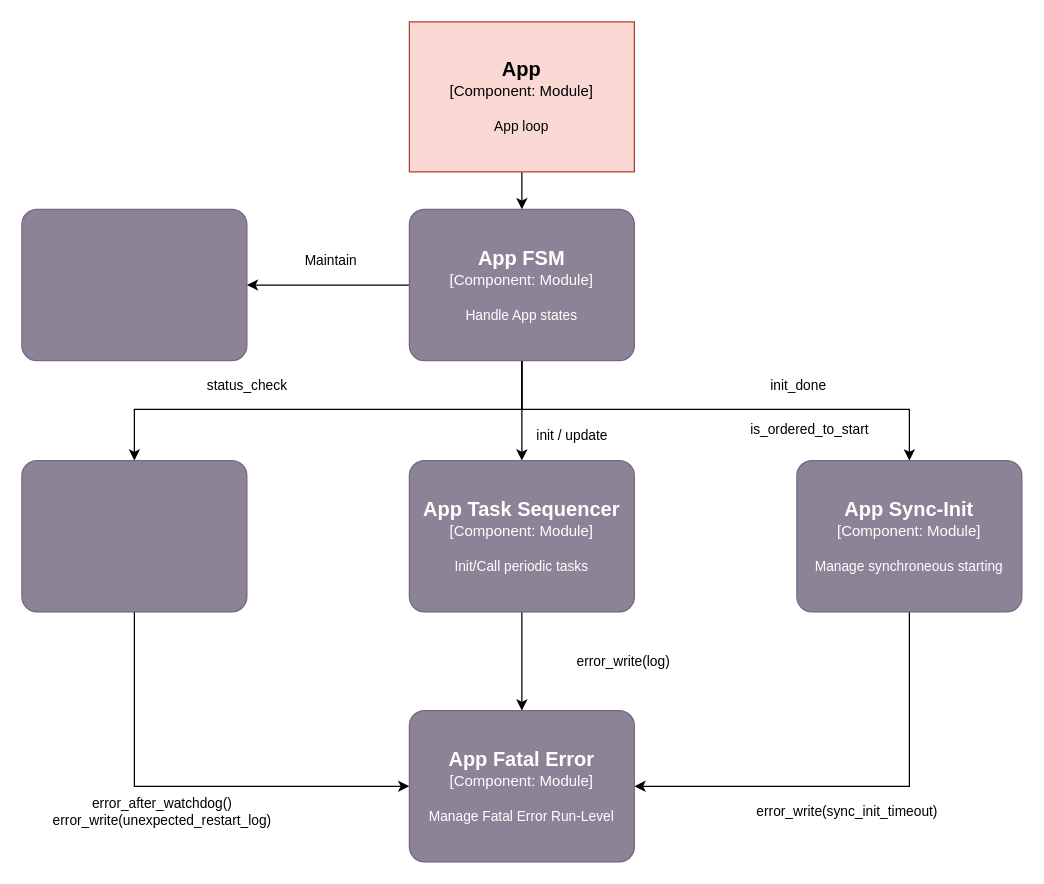
Some shapes in this 1044 by 884 pixel diagram are drawn without their labels. Here are the shapes that lost their labels. From the top down, the box of each, then its label:
(21, 208, 247, 361): Watchdog [Component: Module]
(21, 459, 247, 612): App Boot Status [Component: Module] Boot Activation Flag Registry
